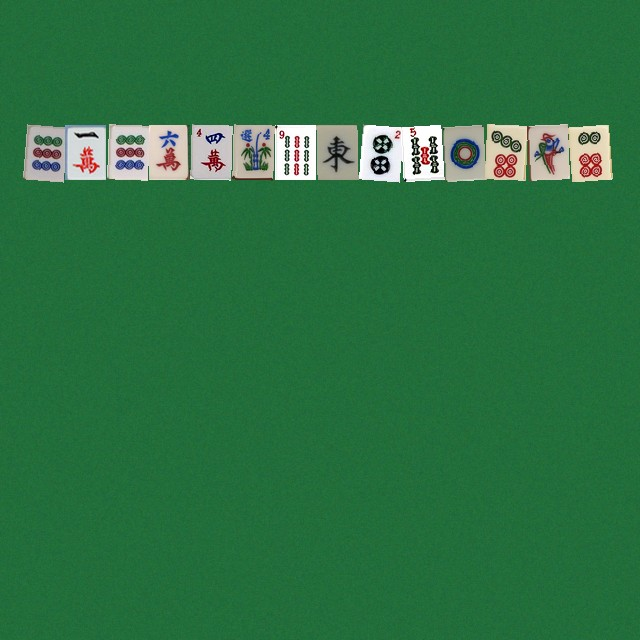tile: (22, 124, 63, 179), (64, 124, 105, 179), (106, 124, 147, 179), (148, 124, 189, 179), (190, 124, 231, 179), (232, 124, 273, 179), (274, 124, 315, 179), (316, 124, 357, 179), (358, 124, 399, 179), (400, 124, 441, 179), (442, 124, 483, 179), (484, 124, 525, 179), (526, 124, 567, 179), (568, 124, 609, 179)
